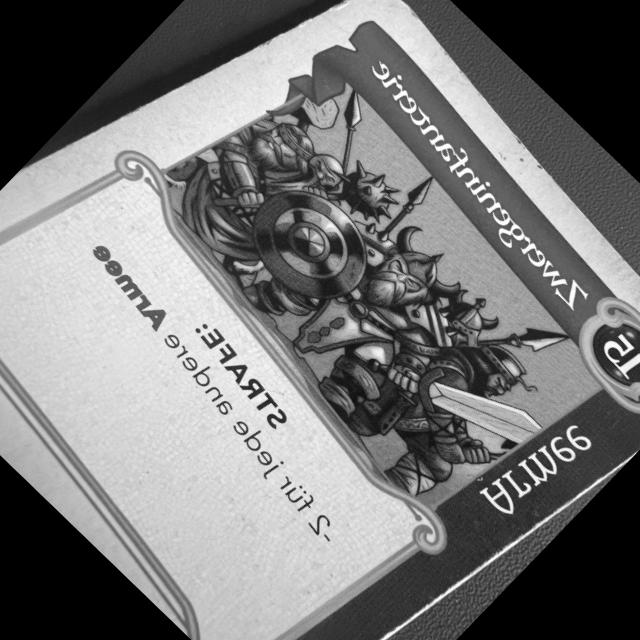Dwarvish Infantry: (0, 0, 640, 640)
